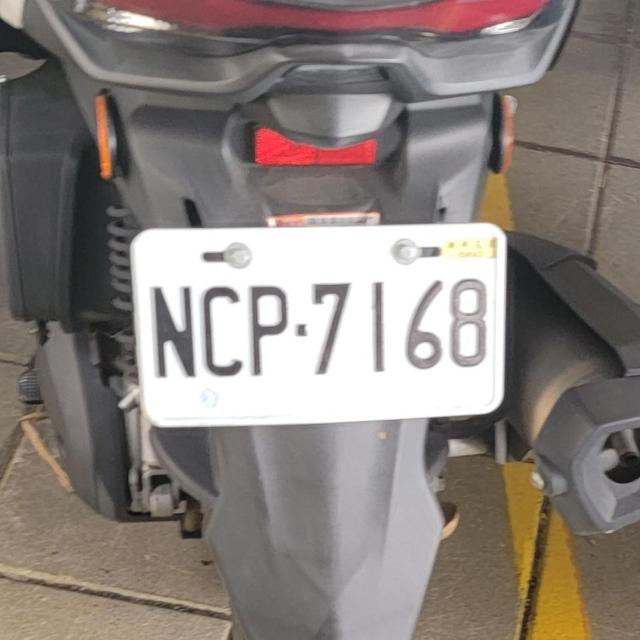W: (125, 205, 518, 438)
